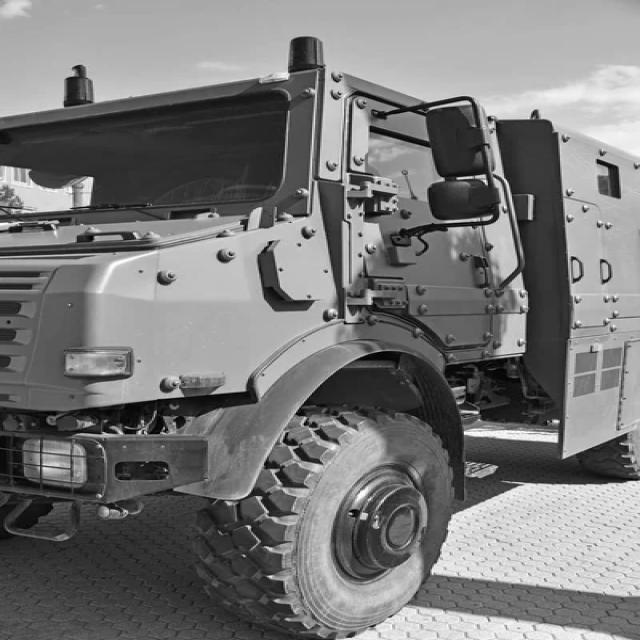Truck: (0, 37, 640, 640)
